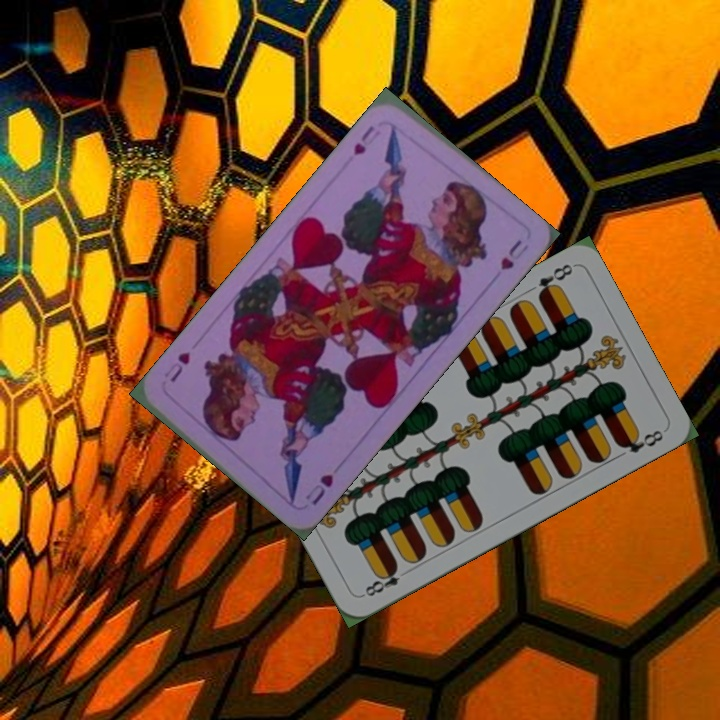E8: (533, 259, 576, 302), (358, 561, 403, 600)
HU: (301, 470, 336, 508), (349, 121, 377, 159)
